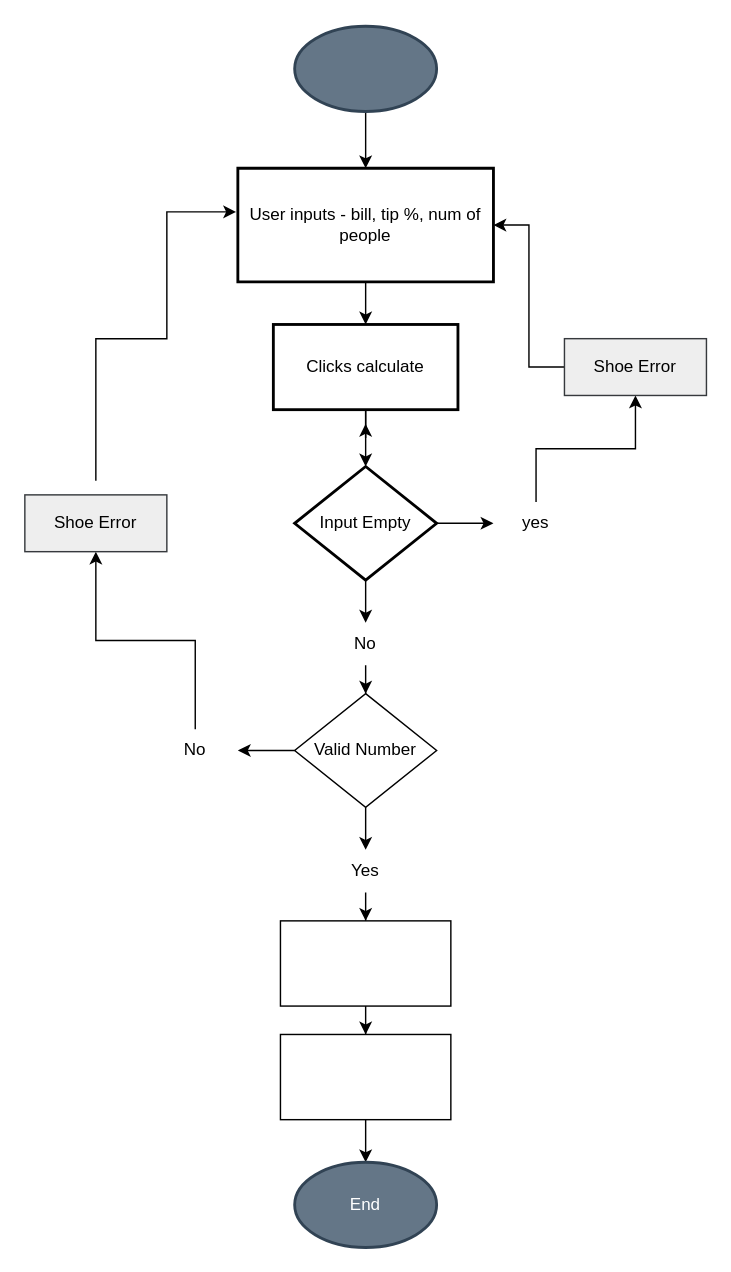
Image size: 731x1272. Some labels were removed from this diagram. The shapes that lost their labels are listed below. From the top down, each one's centre as x and y in pixels, then its label:
At point 365,68: "START".
At point 365,962: "Calculate Tip, Total, Per person".
At point 365,1076: "Display".
